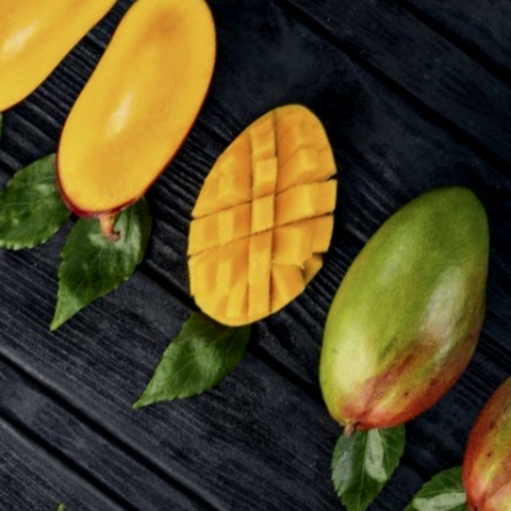mango: (136, 49, 422, 359), (255, 144, 511, 480), (0, 0, 277, 262)
